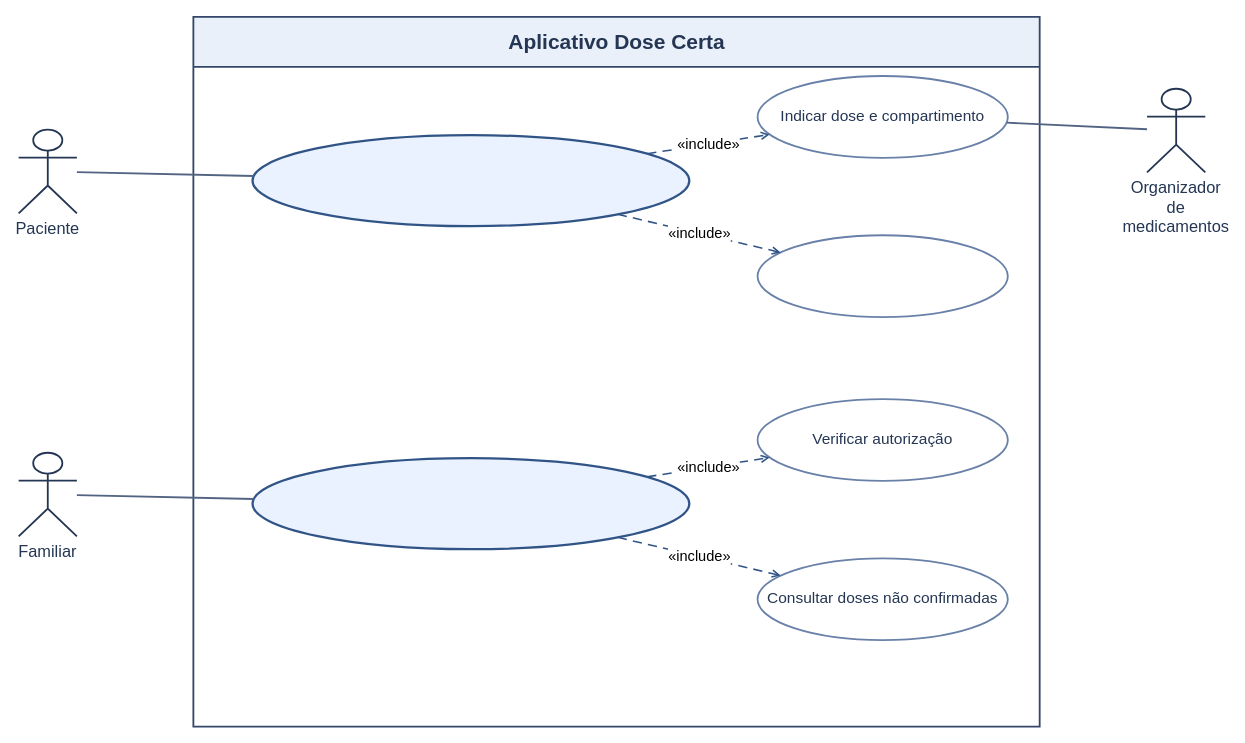
Some shapes in this 1245 by 743 pixel diagram are drawn without their labels. Each missing label, with the centre of its shape:
"Registrar confirmação" belongs at point (882, 276).
"UC 01 Confirmar dose do medicamento" belongs at point (470, 180).
"UC 02 Acompanhar doses pendentes" belongs at point (470, 503).
